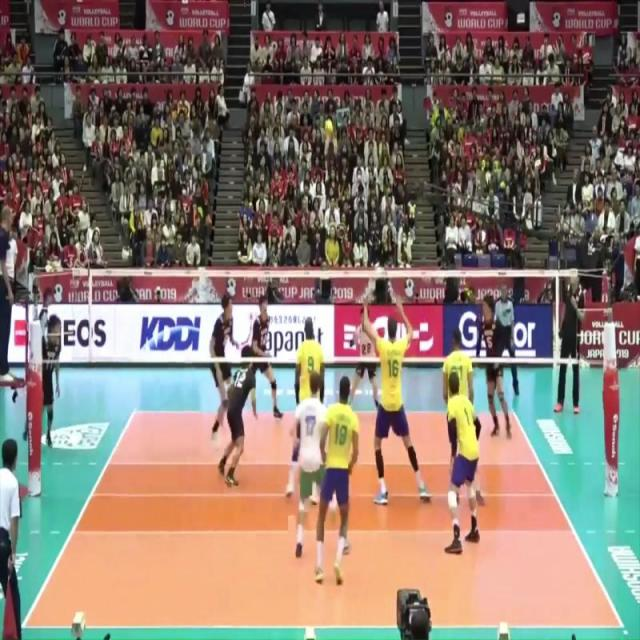volleyball: (321, 113, 336, 140)
